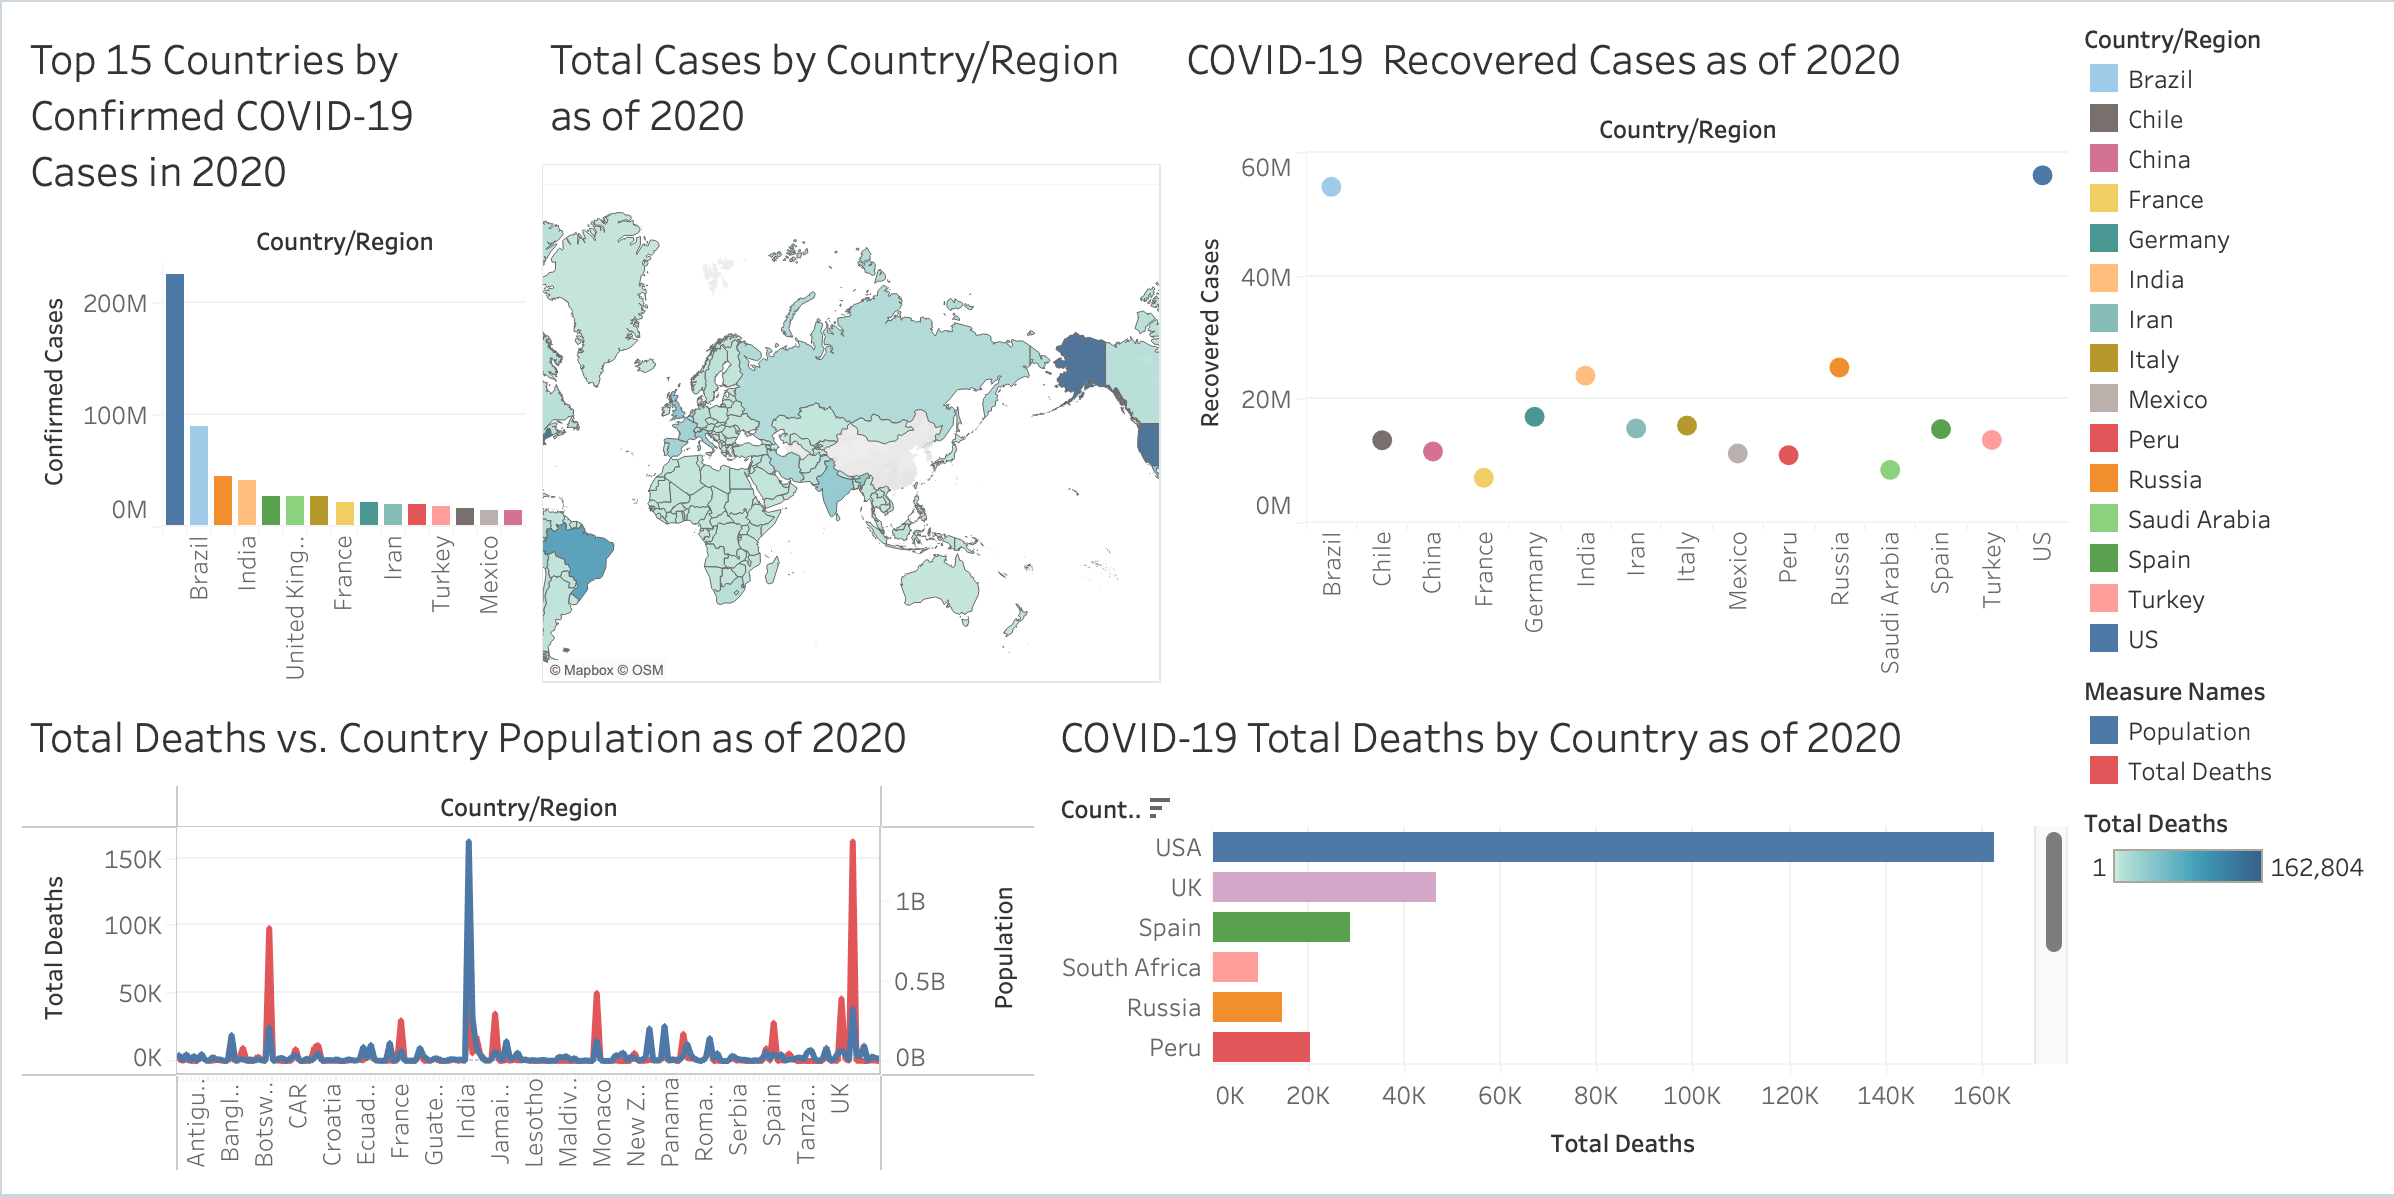

This screenshot's page, from the dashboard's own definition file:
{"tool":"tableau","page":{"name":"Covid-19 Data","canvas":[1200,600],"ordinal":0},"visuals":[{"type":"worksheet","title":"Confirmed","mark":"Automatic","rows":["Confirmed"],"cols":["Country/Region"],"box":[8,8,259.8,339]},{"type":"worksheet","title":"Map","mark":"Multipolygon","box":[267.8,8,318.2,339]},{"type":"worksheet","title":"Recover","mark":"Pie","rows":["Recovered"],"cols":["Country/Region"],"box":[585.9,8,453.1,339]},{"type":"legend","title":"Recover","param":"[federated.0rl9h0g1ivo6qw10yrnu20po2ufa].[none:Country/Region:nk]","box":[1039,8,153,326]},{"type":"legend","title":"TD vs. P","param":"[federated.13z99rq0dddq6p11y2xng05g8ujd].[:Measure Names]","box":[1039,334,153,66]},{"type":"worksheet","title":"TD vs. P","mark":"Line","rows":["TotalDeaths","Population"],"cols":["Country/Region"],"box":[8,347,515,245]},{"type":"worksheet","title":"TD by C/R","mark":"Automatic","rows":["Country/Region"],"cols":["TotalDeaths"],"box":[523,347,516,245]},{"type":"legend","title":"Map","param":"[federated.13z99rq0dddq6p11y2xng05g8ujd].[sum:TotalDeaths:qk]","box":[1039,400,153,65]}]}

Visuals, with their boxes in screenshot pixels (x1, y1, x2, y2), scaled from the page's 1200x600 canvas onto the 2394x1198 screenshot:
"Confirmed" worksheet: 16,16,534,693
"Map" worksheet (Multipolygon marks): 534,16,1169,693
"Recover" worksheet (Pie marks): 1169,16,2073,693
"Recover" legend: 2073,16,2378,667
"TD vs. P" legend: 2073,667,2378,799
"TD vs. P" worksheet (Line marks): 16,693,1043,1182
"TD by C/R" worksheet: 1043,693,2073,1182
"Map" legend: 2073,799,2378,928
